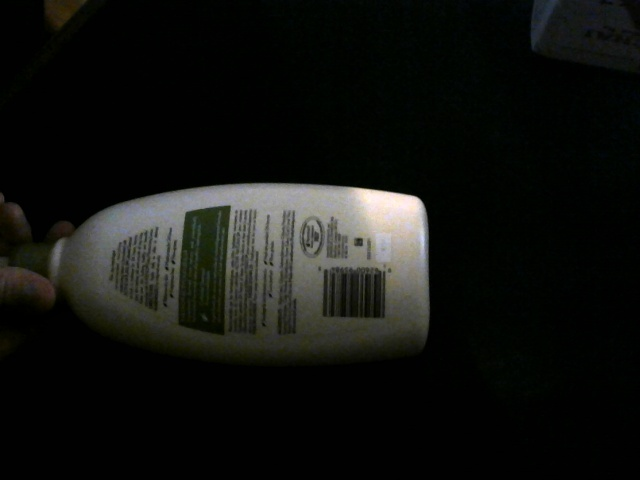Barcode: (320, 265, 387, 320)
